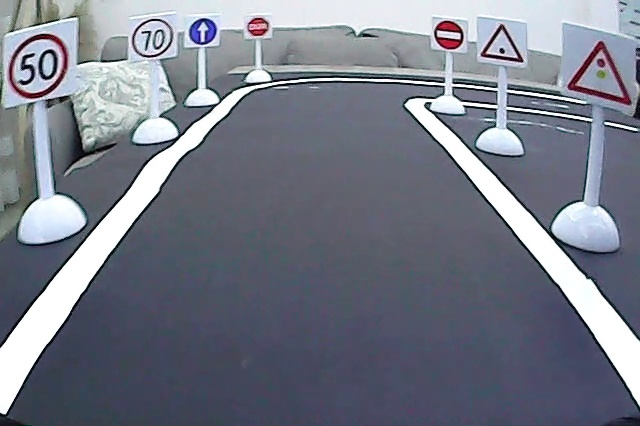do not enter: (432, 18, 467, 51)
green light: (478, 20, 526, 66)
red light: (565, 36, 635, 109)
speed limit 50: (6, 30, 73, 100)
speed limit 70: (129, 16, 176, 60)
stop sign: (244, 15, 272, 39)
